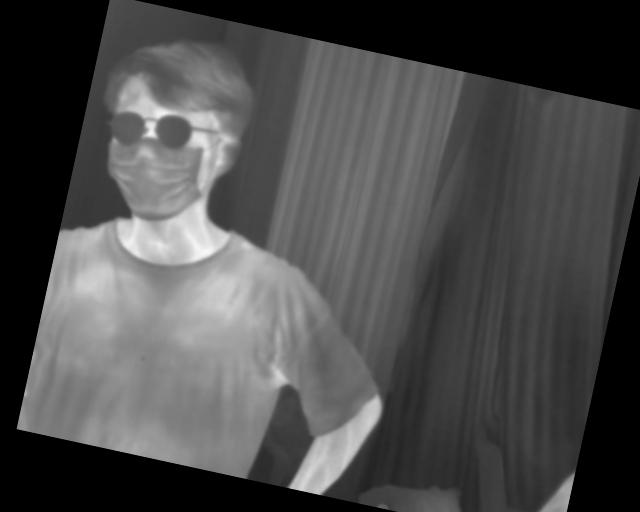face: (85, 24, 265, 238)
